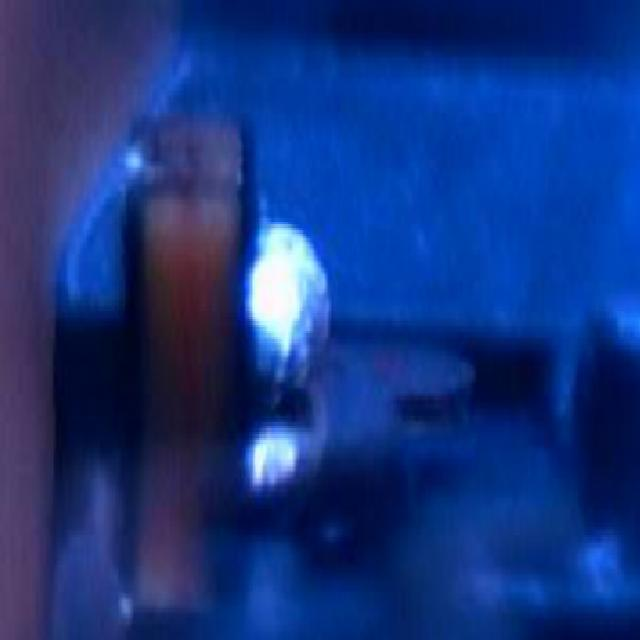Component: (105, 92, 263, 409)
Solder: (230, 204, 344, 438)
